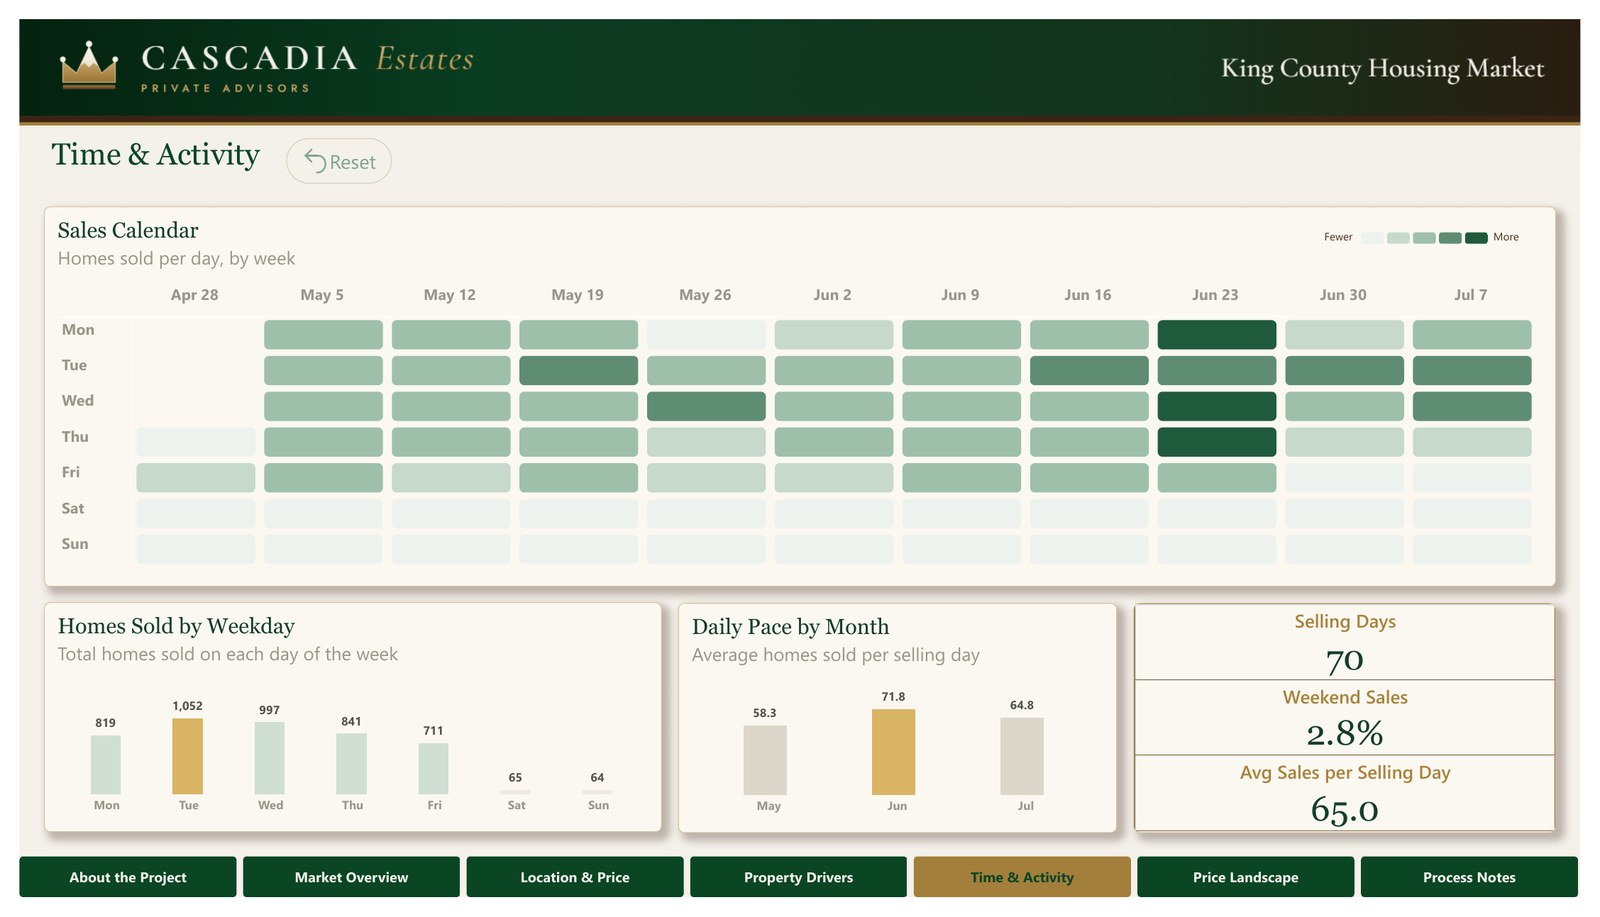

What the dashboard file says about the page in this screenshot:
{"tool":"powerbi","page":{"name":"Time & Activity","canvas":[1920,1080],"ordinal":4},"visuals":[{"type":"image","box":[0,0,1920,130],"z":0},{"type":"pageNavigator","box":[0,1030,1920,50],"z":1000},{"type":"textbox","box":[30,145,375,70],"z":2000},{"type":"cardVisual","fields":{"Data":["!Measures.Selling Days","!Measures.Weekend Sales %","!Measures.Avg Sales per Selling Day"]},"box":[1370,717.5,520,283],"z":3000},{"type":"pivotTable","title":"Sales Calendar","fields":{"Columns":["Dim_Date.Week Short"],"Rows":["Dim_Date.Weekday Short"],"Values":["!Measures.Calendar Cell SVG"]},"box":[30,230,1860,467.5],"z":4000},{"type":"group","id":"g1","title":"Legend","box":[1605,258,254,24],"z":5000},{"type":"clusteredColumnChart","title":"Homes Sold by Weekday","fields":{"Category":["Dim_Date.Weekday Short"],"Y":["!Measures.Homes Sold"]},"box":[30,717,760,283],"z":6000},{"type":"shape","box":[1650,262,28,14],"z":7000,"group":"g1"},{"type":"clusteredColumnChart","title":"Daily Pace by Month","fields":{"Category":["Dim_Date.Month Short"],"Y":["!Measures.Avg Sales per Selling Day"]},"box":[810,717.5,540,283],"z":7000},{"type":"actionButton","title":"Reset filters","box":[328,146,130,56],"z":7001},{"type":"shape","box":[1682,262,28,14],"z":8000,"group":"g1"},{"type":"shape","box":[1714,262,28,14],"z":9000,"group":"g1"},{"type":"shape","box":[1746,262,28,14],"z":10000,"group":"g1"},{"type":"shape","box":[1778,262,28,14],"z":11000,"group":"g1"},{"type":"textbox","box":[1605,258,50,24],"z":12000,"group":"g1"},{"type":"textbox","box":[1813,258,46,24],"z":13000,"group":"g1"}]}

Visuals, with their boxes in screenshot pixels (x1, y1, x2, y2), scaled from the page's 1920x1080 canvas onto the 1600x917 screenshot:
image: x1=0 y1=0 x2=1599 y2=110
pageNavigator: x1=0 y1=875 x2=1599 y2=916
textbox: x1=25 y1=123 x2=338 y2=183
cardVisual - !Measures.Selling Days x !Measures.Weekend Sales %: x1=1142 y1=609 x2=1575 y2=849
"Sales Calendar" pivotTable: x1=25 y1=195 x2=1575 y2=592
"Legend" group: x1=1338 y1=219 x2=1549 y2=239
"Homes Sold by Weekday" clusteredColumnChart: x1=25 y1=609 x2=658 y2=849
shape: x1=1375 y1=222 x2=1398 y2=234
"Daily Pace by Month" clusteredColumnChart: x1=675 y1=609 x2=1125 y2=849
"Reset filters" actionButton: x1=273 y1=124 x2=382 y2=172
shape: x1=1402 y1=222 x2=1425 y2=234
shape: x1=1428 y1=222 x2=1452 y2=234
shape: x1=1455 y1=222 x2=1478 y2=234
shape: x1=1482 y1=222 x2=1505 y2=234
textbox: x1=1338 y1=219 x2=1379 y2=239
textbox: x1=1511 y1=219 x2=1549 y2=239
